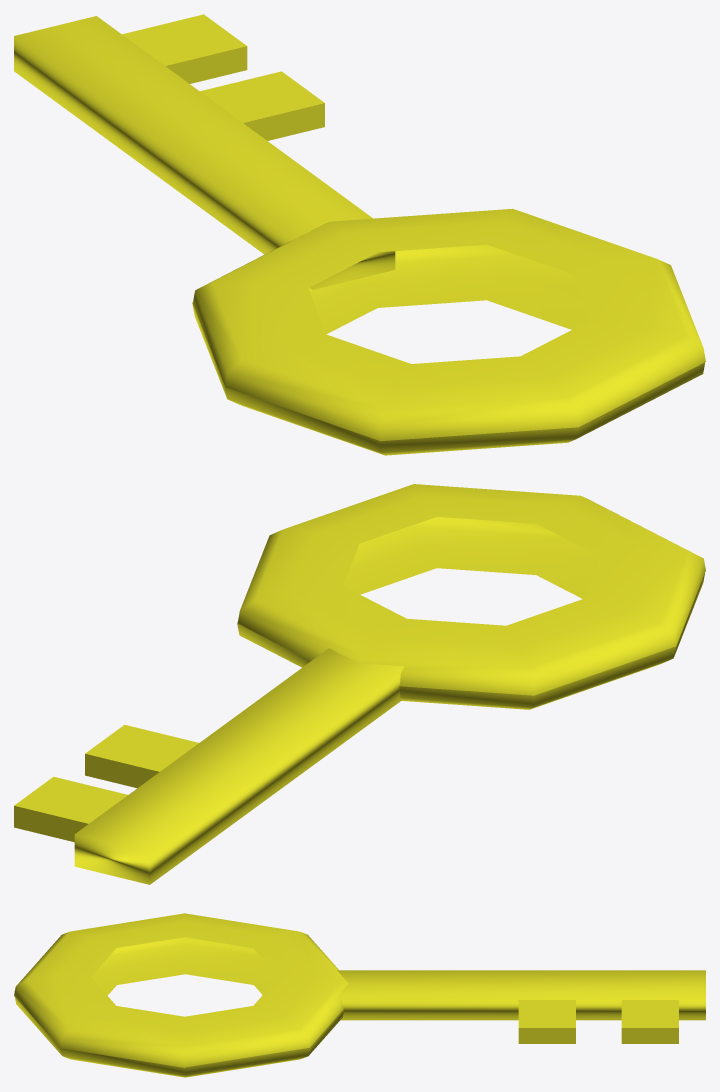
File: key.fbx
The picture shows the model from 3 angles, top to bottom: view 1: azimuth 30°, elevation 25°; view 2: azimuth 150°, elevation 25°; view 3: azimuth 270°, elevation 25°; orthographic projection. The views are drawn at different scales.
Visible parts, largest first — view 1: Cube, Cube.001, Cube.002, Cube.004, Cube.003; view 2: Cube, Cube.001, Cube.002, Cube.004, Cube.003; view 3: Cube, Cube.001, Cube.002, Cube.003, Cube.004.
Part boxes in pixels (left/top/right/bottom): Cube: left=192, top=208, right=705, bottom=441; Cube.001: left=14, top=16, right=395, bottom=289; Cube.002: left=192, top=244, right=704, bottom=455; Cube.004: left=122, top=14, right=247, bottom=83; Cube.003: left=200, top=71, right=324, bottom=140; Cube: left=237, top=484, right=705, bottom=695; Cube.001: left=74, top=648, right=404, bottom=884; Cube.002: left=237, top=516, right=704, bottom=709; Cube.004: left=14, top=776, right=127, bottom=842; Cube.003: left=85, top=724, right=198, bottom=788; Cube: left=14, top=913, right=348, bottom=1067; Cube.001: left=335, top=970, right=705, bottom=1020; Cube.002: left=15, top=937, right=344, bottom=1077; Cube.003: left=518, top=1000, right=575, bottom=1043; Cube.004: left=621, top=1000, right=678, bottom=1043.
Bounding box in the file's own units: 183 × 21.92 × 371.
